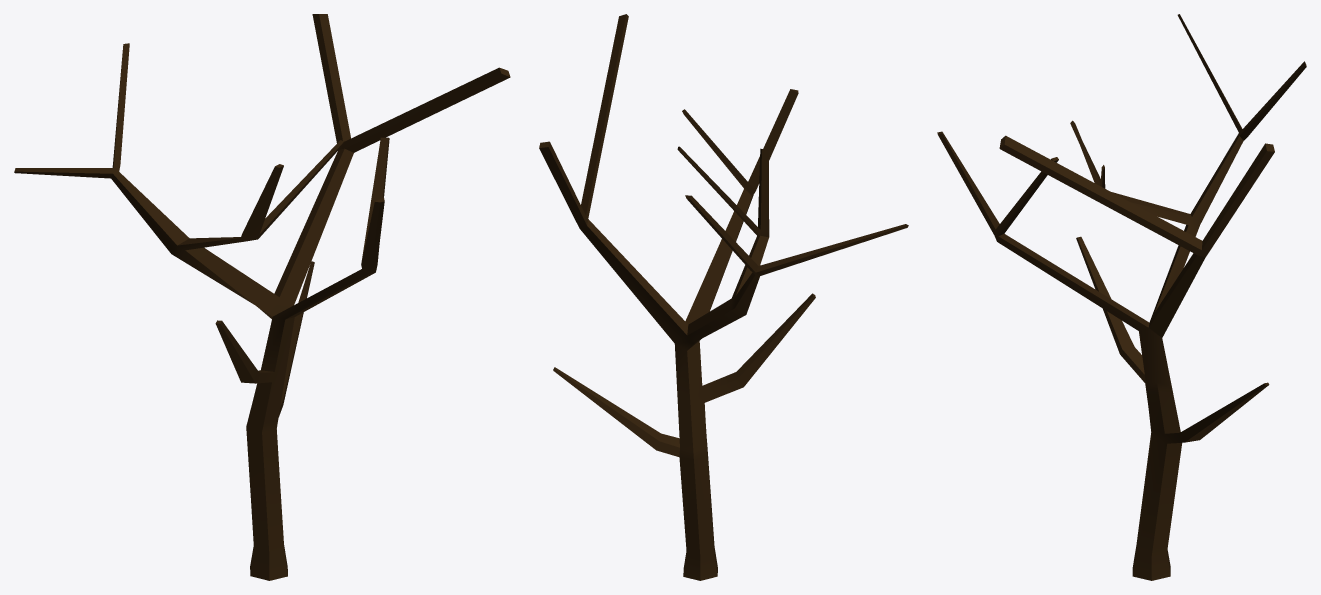
File: tree.fbx
The picture shows the model from 3 angles, left to right: view 1: azimuth 30°, elevation 25°; view 2: azimuth 150°, elevation 25°; view 3: azimuth 270°, elevation 25°; orthographic projection. The views are drawn at different scales.
Parts seen in each view (by area): view 1: Tree; view 2: Tree; view 3: Tree.
Boxes of the visible parts, left/top/right/bottom form: Tree: left=14, top=14, right=510, bottom=580; Tree: left=539, top=14, right=908, bottom=580; Tree: left=937, top=14, right=1306, bottom=580.
Size of the model in its own units: 912 by 1117 by 732.
